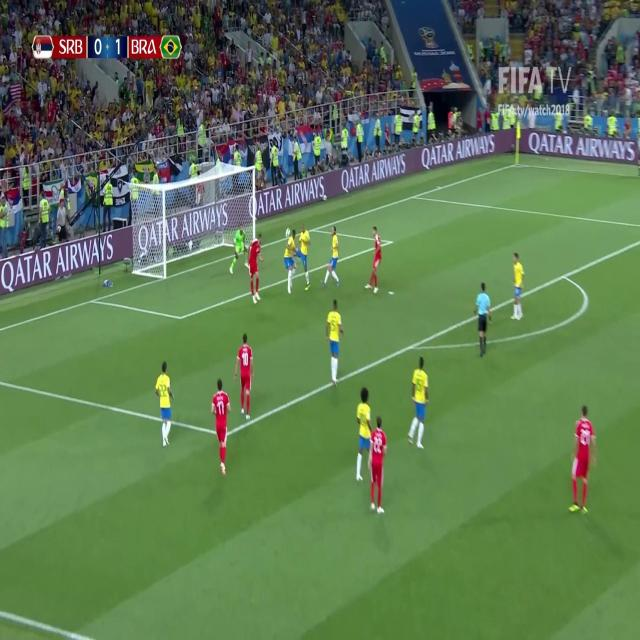ball: (284, 227, 291, 240)
player: (567, 403, 599, 513), (208, 374, 234, 476), (406, 353, 431, 450), (368, 412, 391, 514), (353, 386, 374, 484), (153, 359, 176, 448), (324, 298, 346, 391), (232, 333, 255, 421), (472, 278, 492, 356), (365, 222, 386, 292), (508, 248, 526, 321), (246, 232, 265, 301), (282, 224, 299, 296), (296, 220, 313, 290), (323, 222, 341, 286), (230, 225, 244, 276)
